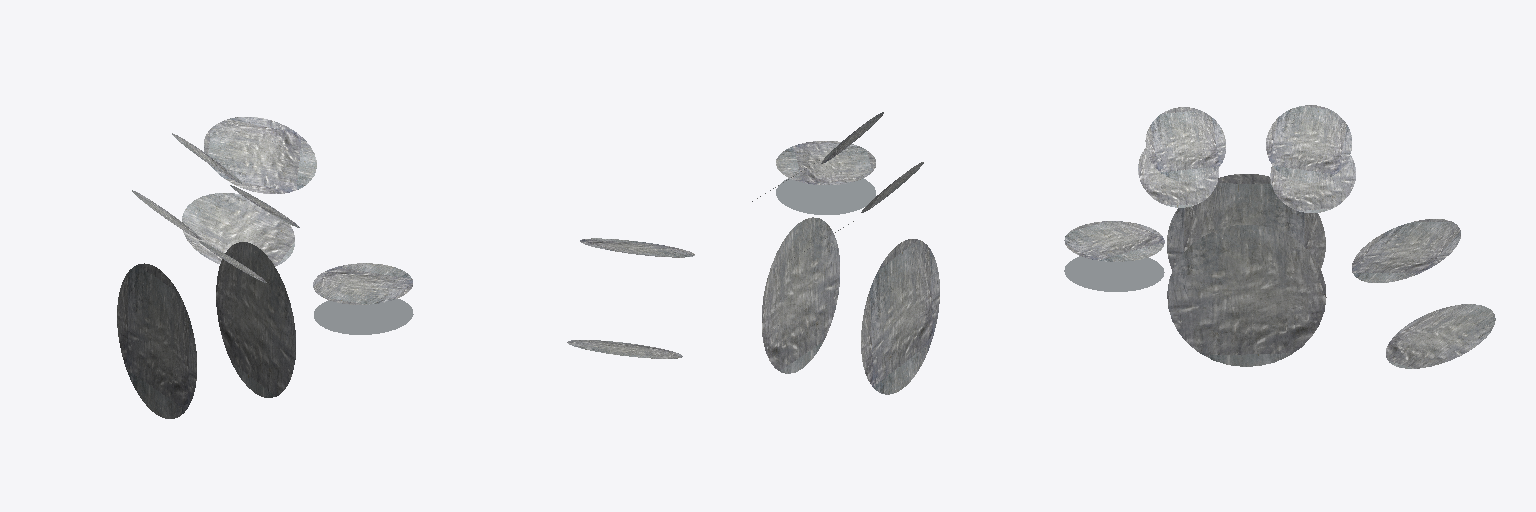
3 renders of one model, left to right at view 1: azimuth 30°, elevation 25°; view 2: azimuth 150°, elevation 25°; view 3: azimuth 270°, elevation 25°, orthographic.
Visible parts, largest first — view 1: polySurface2811; view 2: polySurface2811; view 3: polySurface2811.
Part boxes in pixels (bbox=[...]): polySurface2811: bbox=[117, 117, 413, 418]; polySurface2811: bbox=[567, 112, 939, 394]; polySurface2811: bbox=[1064, 105, 1495, 368].
Bounding box in the file's own units: 1.9 × 1.85 × 3.02.
2 materials, 1 textured.